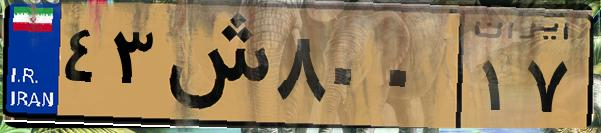0: (385, 28, 445, 110), (330, 28, 385, 110)
1: (475, 38, 525, 113)
3: (110, 28, 158, 98)
4: (57, 26, 110, 100)
7: (525, 38, 570, 115)
8: (270, 28, 330, 110)
ش: (158, 12, 270, 120)
